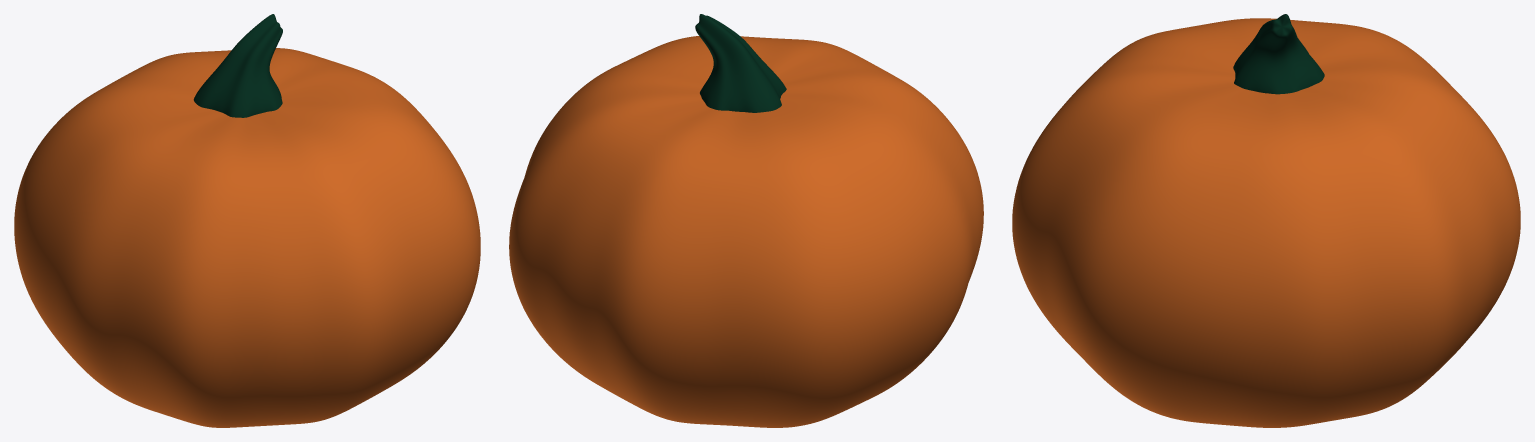
File: pumpkin.glb
3 renders of one model, left to right at view 1: azimuth 30°, elevation 25°; view 2: azimuth 150°, elevation 25°; view 3: azimuth 270°, elevation 25°, orthographic. The views are drawn at different scales.
Visible parts, largest first — view 1: Sphere, Cone; view 2: Sphere, Cone; view 3: Sphere, Cone.
Part boxes in pixels (x1,y1,x2,y2): Sphere: (14,48,480,427); Cone: (193,14,282,117); Sphere: (509,36,983,427); Cone: (695,14,786,112); Sphere: (1012,18,1520,427); Cone: (1233,14,1324,94).
Size of the model in its own units: 1.84 by 1.6 by 1.92.
